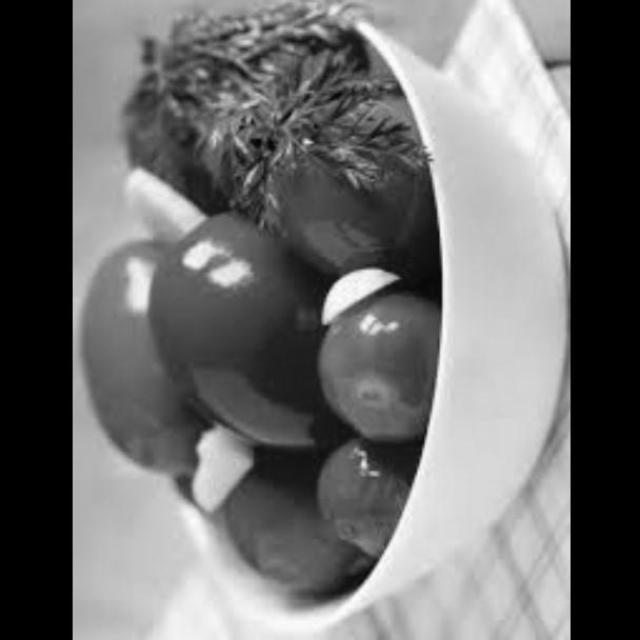garlic: (98, 161, 209, 250), (180, 420, 252, 521), (314, 251, 400, 326)
tomato: (70, 12, 452, 608)
